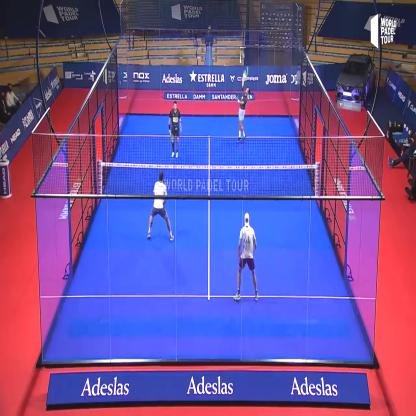ball: (241, 47, 247, 64)
